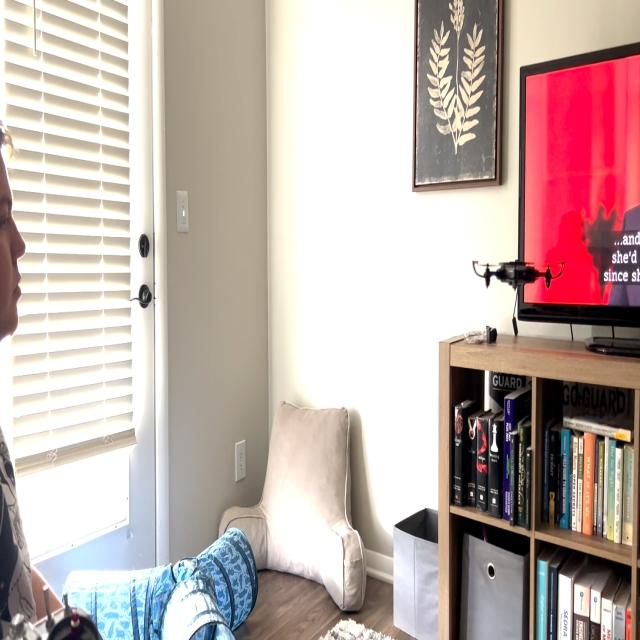drone: (461, 236, 574, 310)
